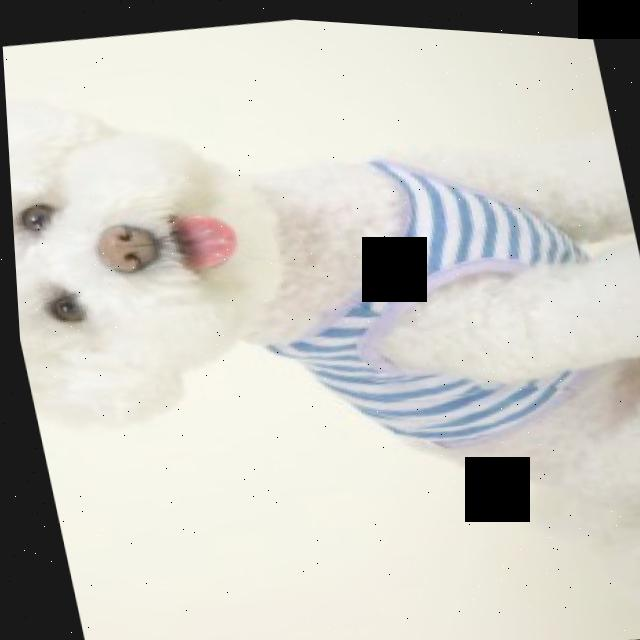cloth: (264, 155, 583, 441)
